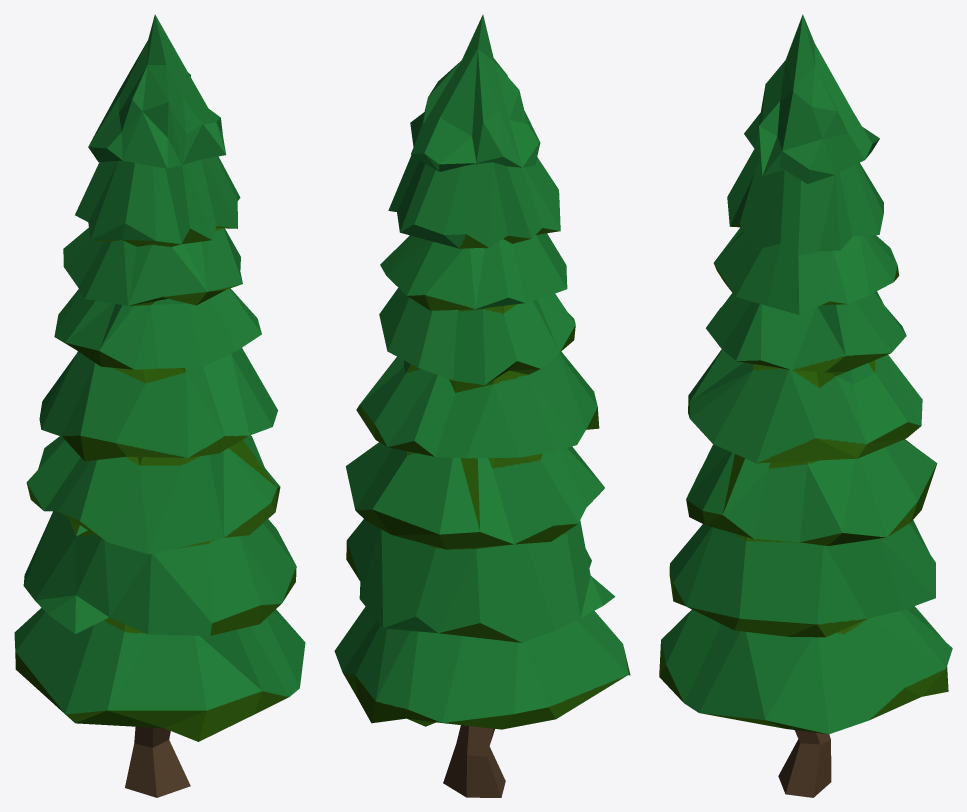
The model's file is _2_tree_Cylinder.003.obj.
3 renders of one model, left to right at view 1: azimuth 30°, elevation 25°; view 2: azimuth 150°, elevation 25°; view 3: azimuth 270°, elevation 25°, orthographic.
Visible parts, largest first — view 1: _2_tree_Cylinder.003; view 2: _2_tree_Cylinder.003; view 3: _2_tree_Cylinder.003.
Part boxes in pixels (x1=…): _2_tree_Cylinder.003: x1=14, y1=14, x2=305, y2=797; _2_tree_Cylinder.003: x1=334, y1=14, x2=630, y2=797; _2_tree_Cylinder.003: x1=659, y1=14, x2=952, y2=797.
Bounding box in the file's own units: 0.8524 × 2.49 × 0.8631.
1 material, 1 textured.
